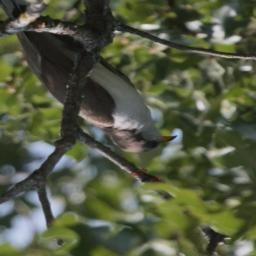Cuckoo: (0, 0, 179, 154)
